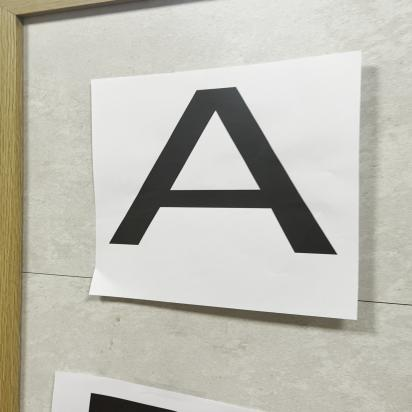seat: (109, 78, 352, 261)
